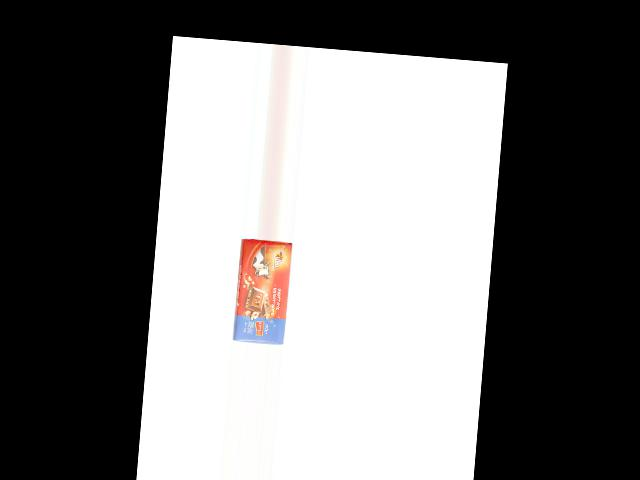chocolate: (228, 238, 291, 343)
